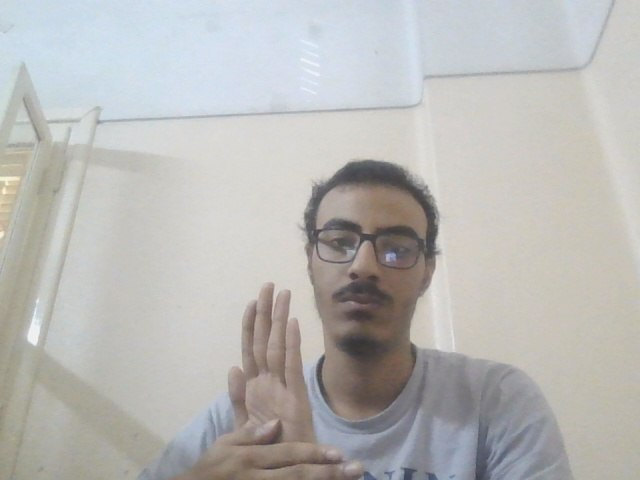Movie: (197, 279, 367, 480)
